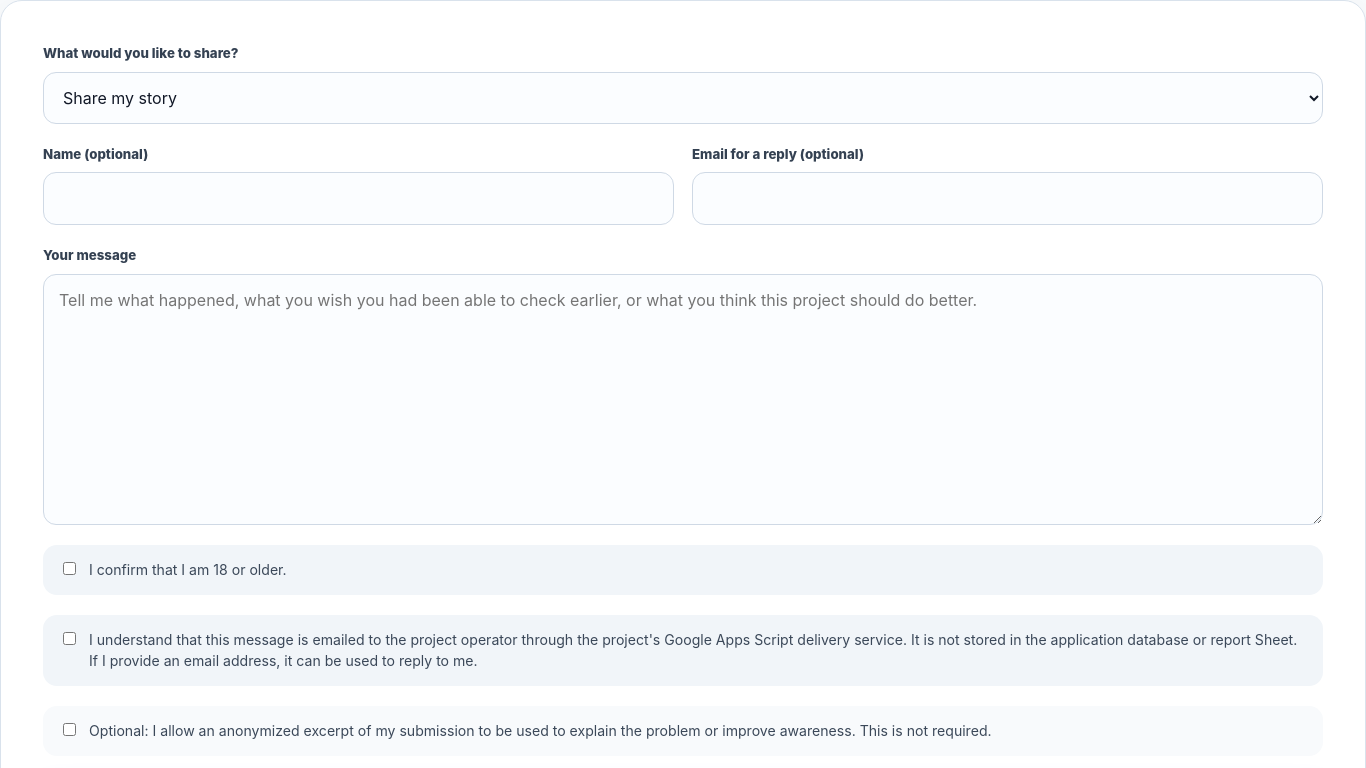
StoryForm › does not require adult confirmation for a privacy request
The image size is (1366, 768).
Select "Privacy / data request" in the dropdown labelled "What would you like to share?" at {"x": 683, "y": 98}, box [43, 72, 1323, 124]
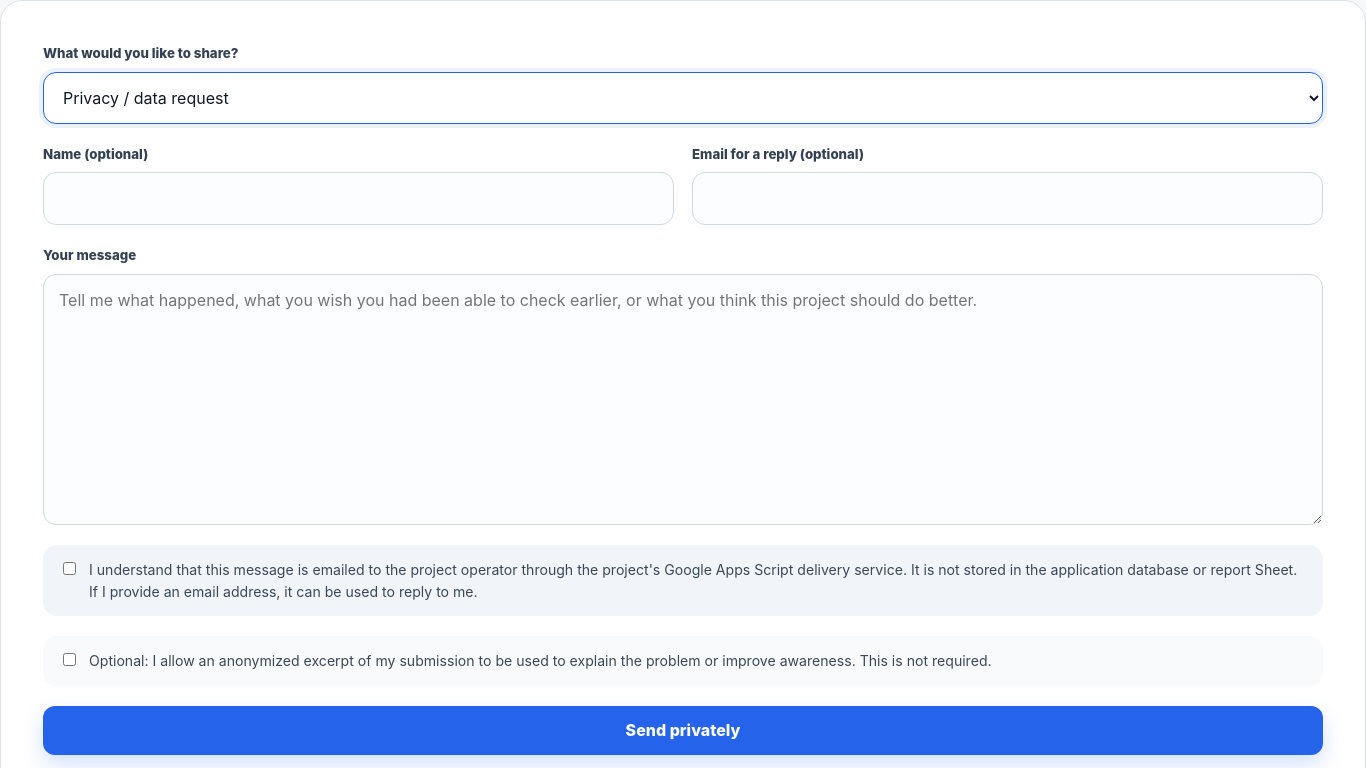
Check: the text labelled "I confirm that I am 18 or older." is gone
